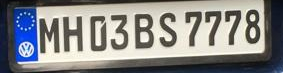0: (90, 16, 108, 52)
3: (110, 15, 131, 51)
7: (184, 11, 203, 48), (224, 10, 242, 46), (204, 11, 222, 46)
8: (244, 9, 262, 44)
B: (134, 13, 155, 49)
H: (62, 16, 87, 52)
M: (38, 16, 61, 54)
S: (157, 12, 180, 48)
